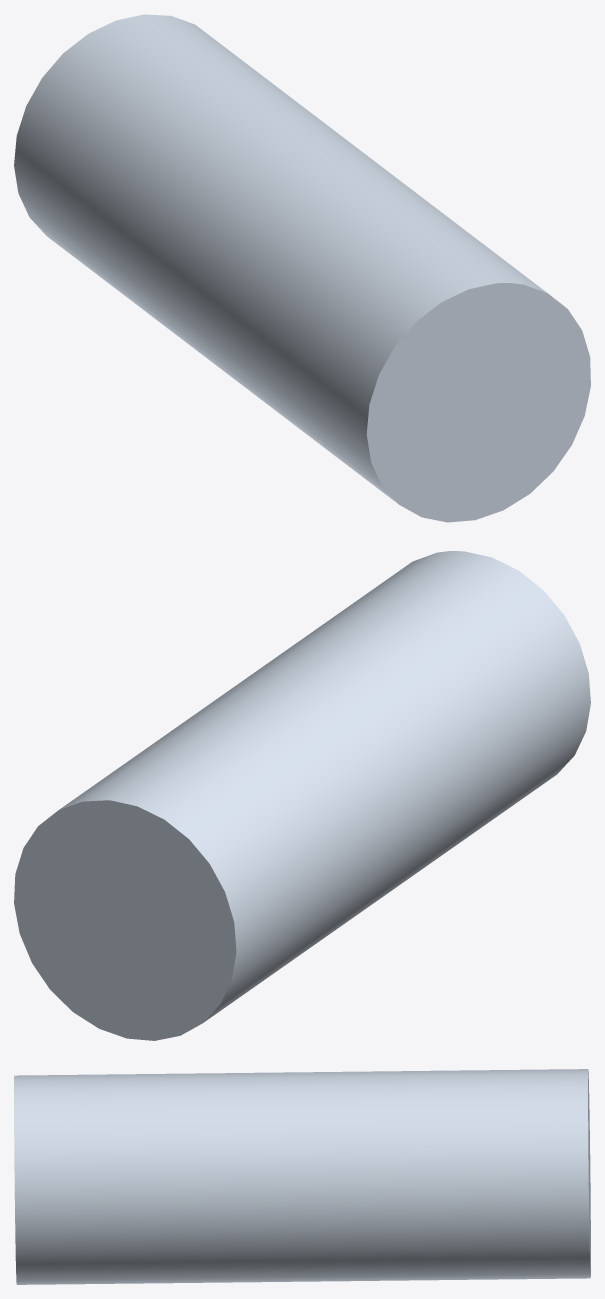
File: RB-033_viewer.glb
3 views of the same model, one above another, from view 1: azimuth 30°, elevation 25°; view 2: azimuth 150°, elevation 25°; view 3: azimuth 270°, elevation 25° (orthographic). The views are drawn at different scales.
Visible parts, largest first — view 1: basebody_imported1; view 2: basebody_imported1; view 3: basebody_imported1.
Part boxes in pixels (x1=…): basebody_imported1: x1=14, y1=14, x2=590, y2=522; basebody_imported1: x1=14, y1=551, x2=590, y2=1040; basebody_imported1: x1=14, y1=1069, x2=590, y2=1284.
Size of the model in its own units: 0.00304 by 0.00313 by 0.00832.
